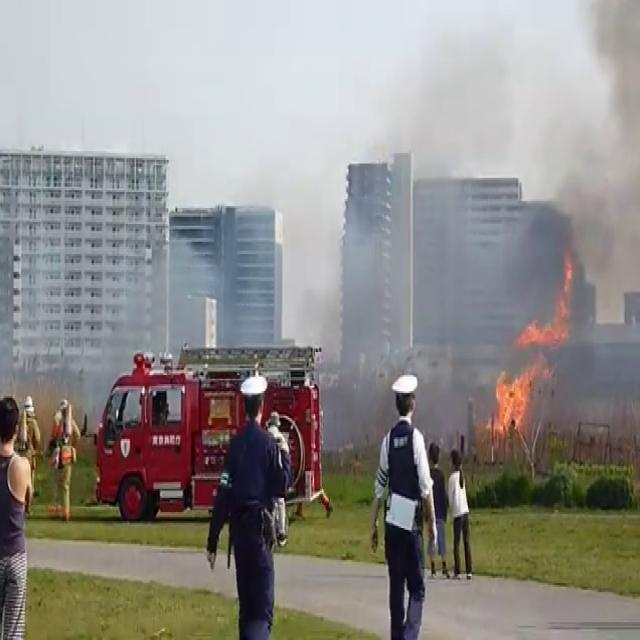Fire: (486, 256, 576, 444)
Smoke: (318, 6, 640, 406)
